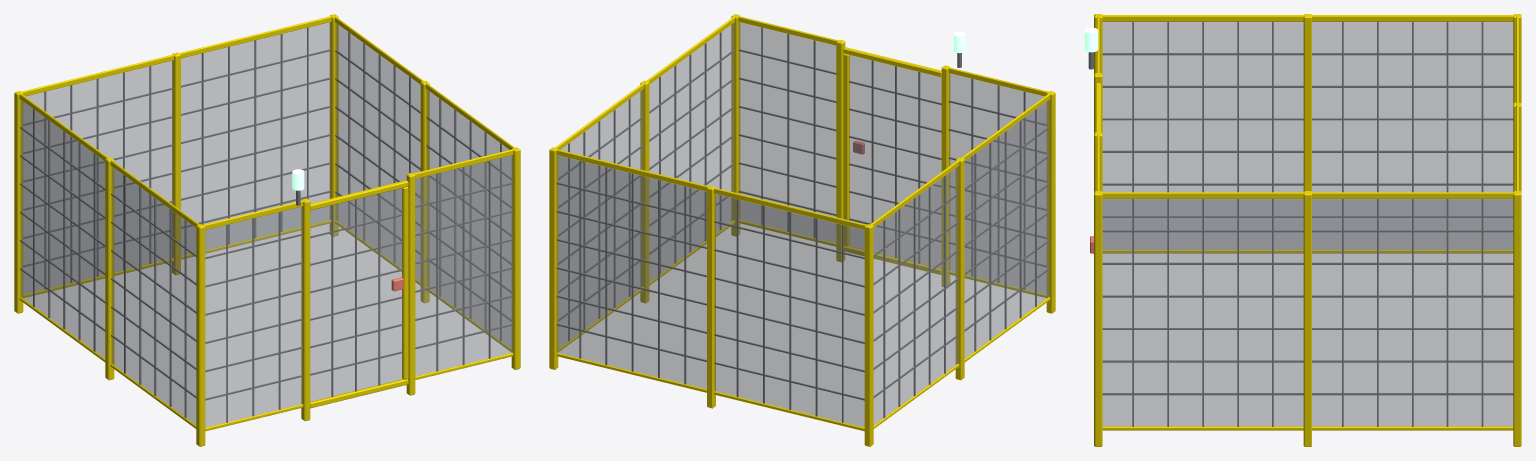
File: celula_medio.glb
3 renders of one model, left to right at view 1: azimuth 30°, elevation 25°; view 2: azimuth 150°, elevation 25°; view 3: azimuth 270°, elevation 25°, orthographic. The views are drawn at different scales.
Visible parts, largest first — view 1: cerca, portao; view 2: cerca, portao; view 3: cerca.
Boxes of the visible parts, x1,y1,x2,y2 form: cerca: (14,14,520,446); portao: (310,180,408,408); cerca: (549,14,1055,446); portao: (843,47,941,274); cerca: (1088,14,1521,446).
Bounding box in the file's own units: 3.06 × 2.3 × 3.13.
